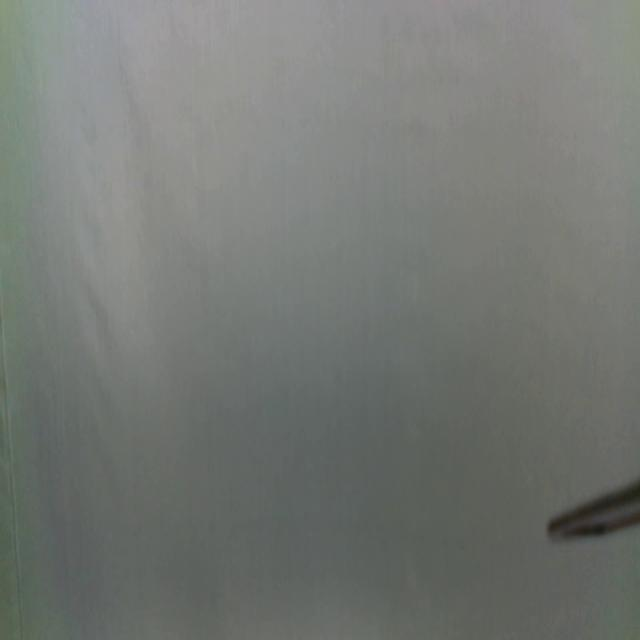crease: (0, 302, 25, 640)
